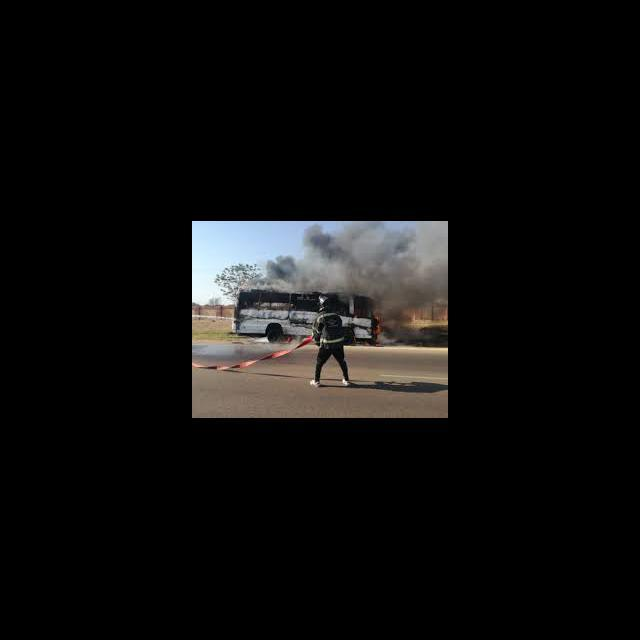Fire: (372, 316, 382, 337)
Smoke: (246, 222, 448, 327)
